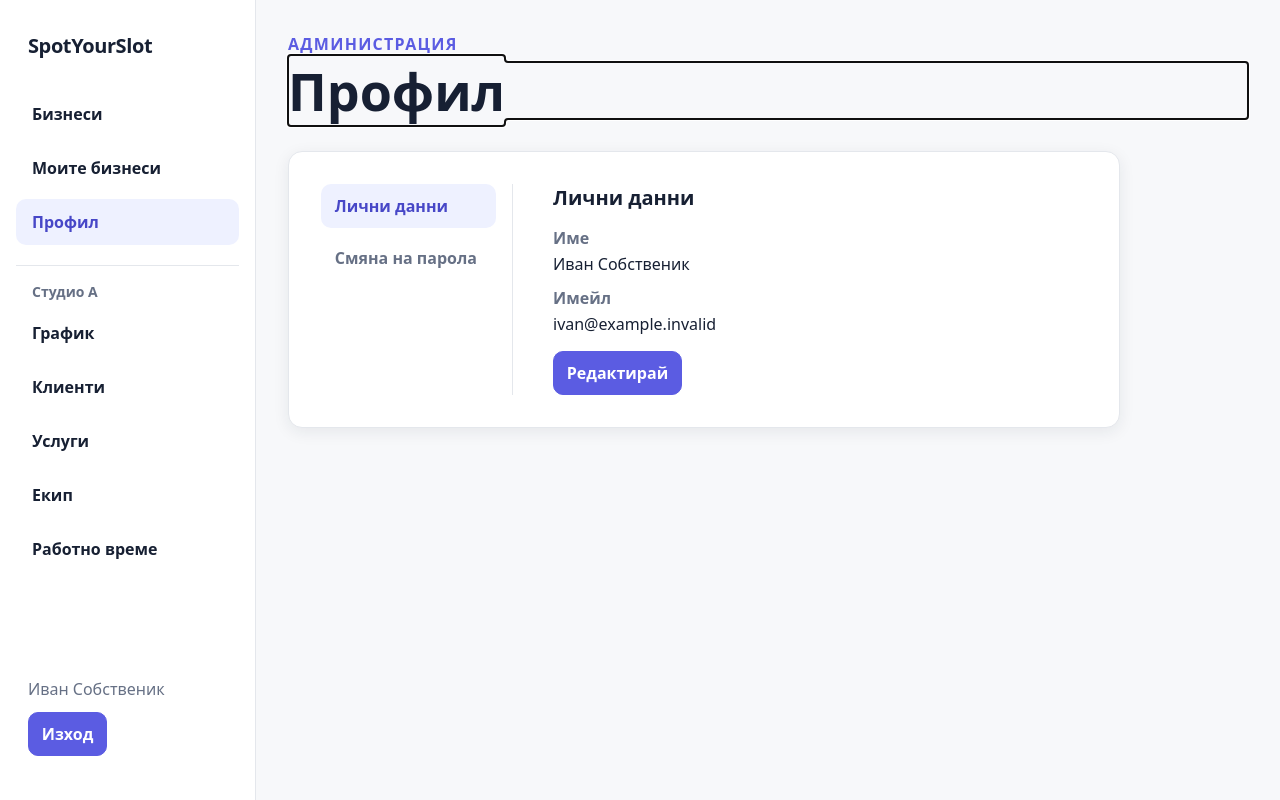
Scenario: the approved owner and administrator labels › an administrator who also owns Businesses gets Моите бизнеси as a distinct destination
expect the heading "Профил" is shown: met, box [288,55,505,126]
Step 1. Click the link "Моите бизнеси" → {"x": 96, "y": 168}, box [32,157,161,179]
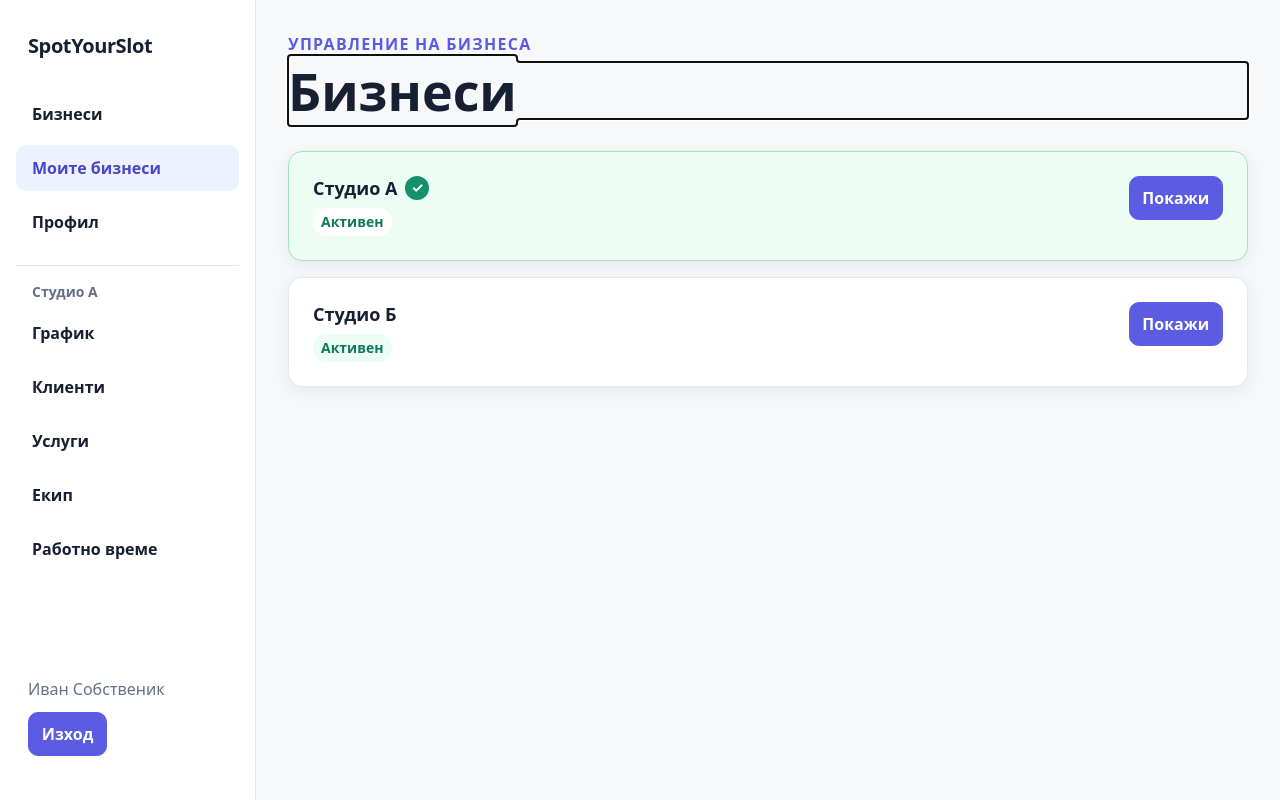
expect the heading "Бизнеси" is shown: met, box [288,55,517,126]
expect the list named "Вашите бизнеси" shows "Студио А": met, box [313,176,398,200]
